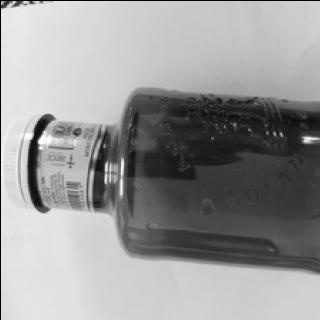plastic_bottles: (4, 70, 320, 273)
